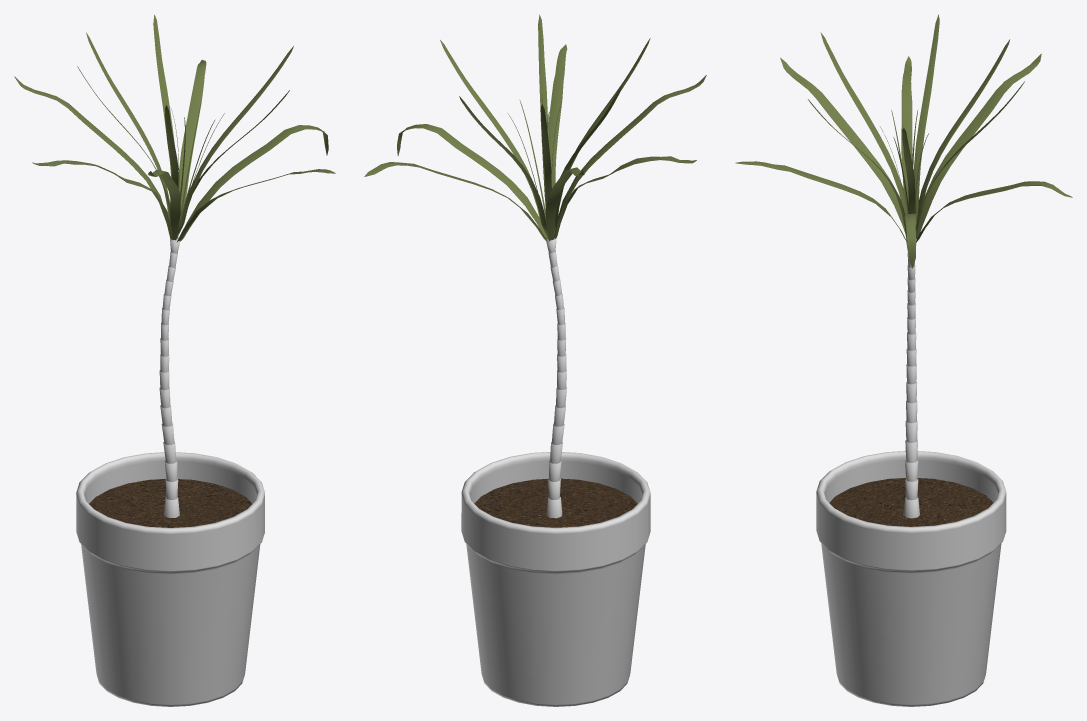
File: HousePlant8.fbx
The picture shows the model from 3 angles, left to right: view 1: azimuth 30°, elevation 25°; view 2: azimuth 150°, elevation 25°; view 3: azimuth 270°, elevation 25°; orthographic projection.
Parts seen in each view (by area): view 1: BrownPot.004, MiniPalm; view 2: BrownPot.004, MiniPalm; view 3: BrownPot.004, MiniPalm.
Part boxes in pixels (x1=…): BrownPot.004: x1=76, y1=452, x2=264, y2=706; MiniPalm: x1=14, y1=14, x2=335, y2=527; BrownPot.004: x1=461, y1=452, x2=650, y2=706; MiniPalm: x1=364, y1=14, x2=706, y2=527; BrownPot.004: x1=816, y1=451, x2=1006, y2=706; MiniPalm: x1=735, y1=14, x2=1072, y2=526.
Size of the model in its own units: 288 by 574 by 282.
